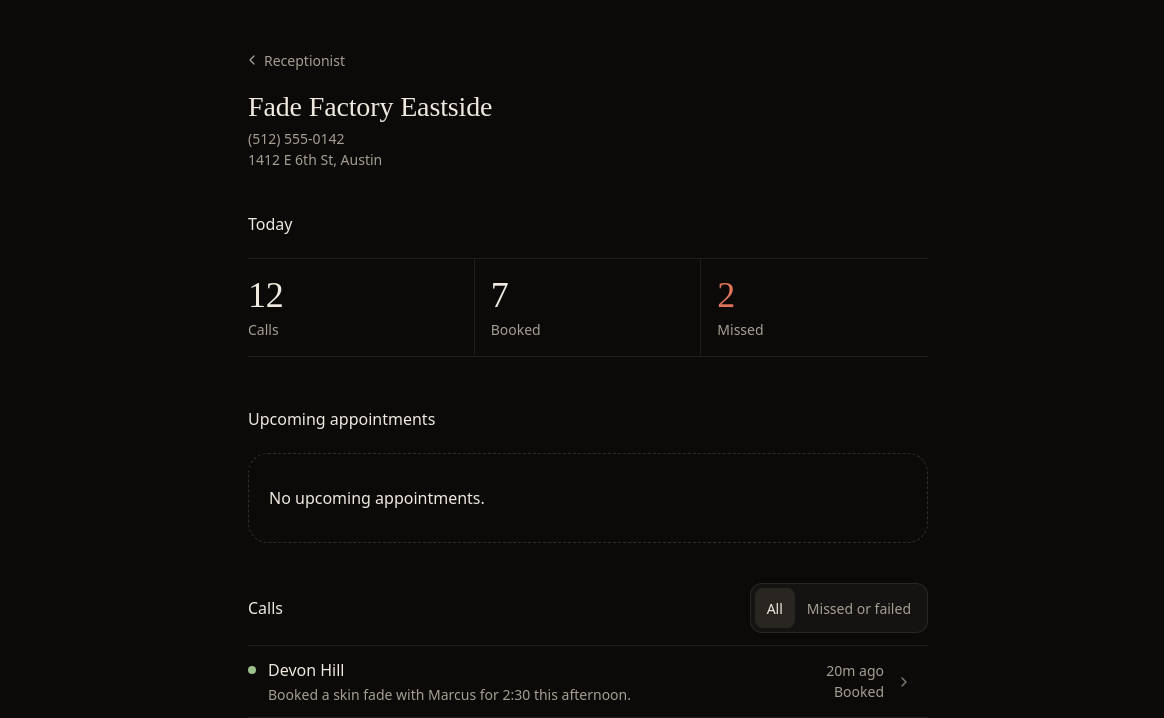
it: Receptionist: one shop › calls › does not add a history entry per filter change: Back still leaves the shop
Click the radio button labelled "Missed or failed" at (859, 608), box [795,588,923,628]
(page scrolled)
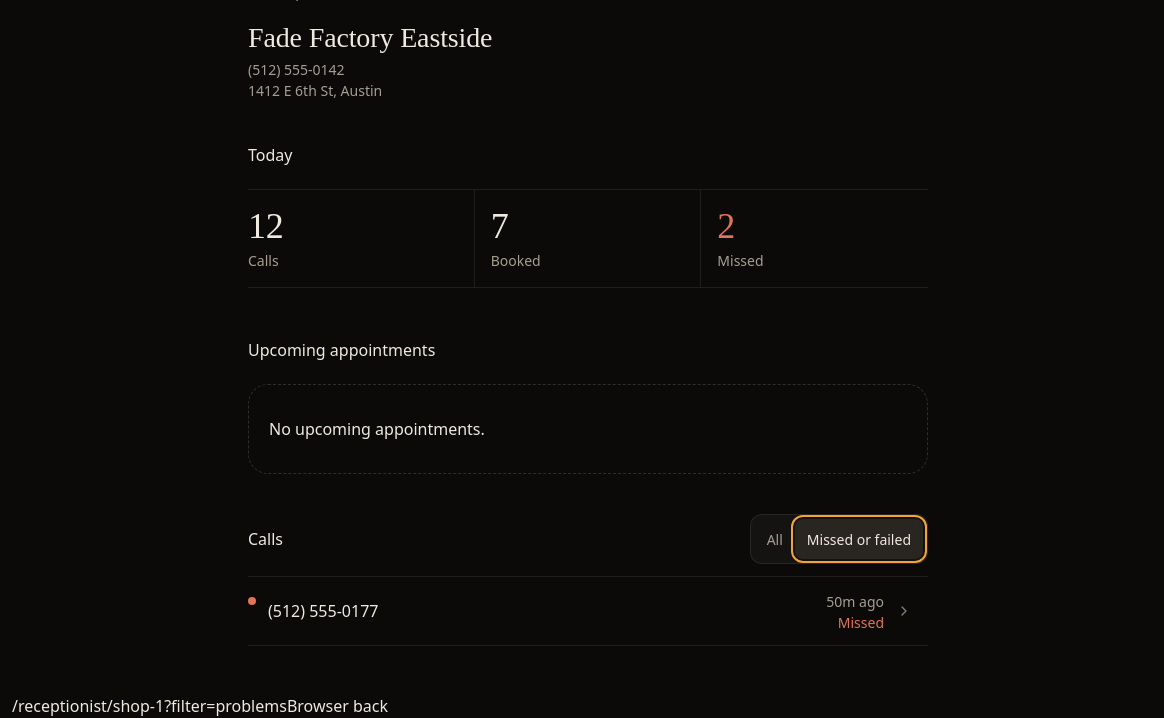
Expected: the text with test id "location" shows "?filter=problems", [12,695,287,717]
Click the button "Browser back" at (337, 706), box [287,694,388,717]
(page scrolled)
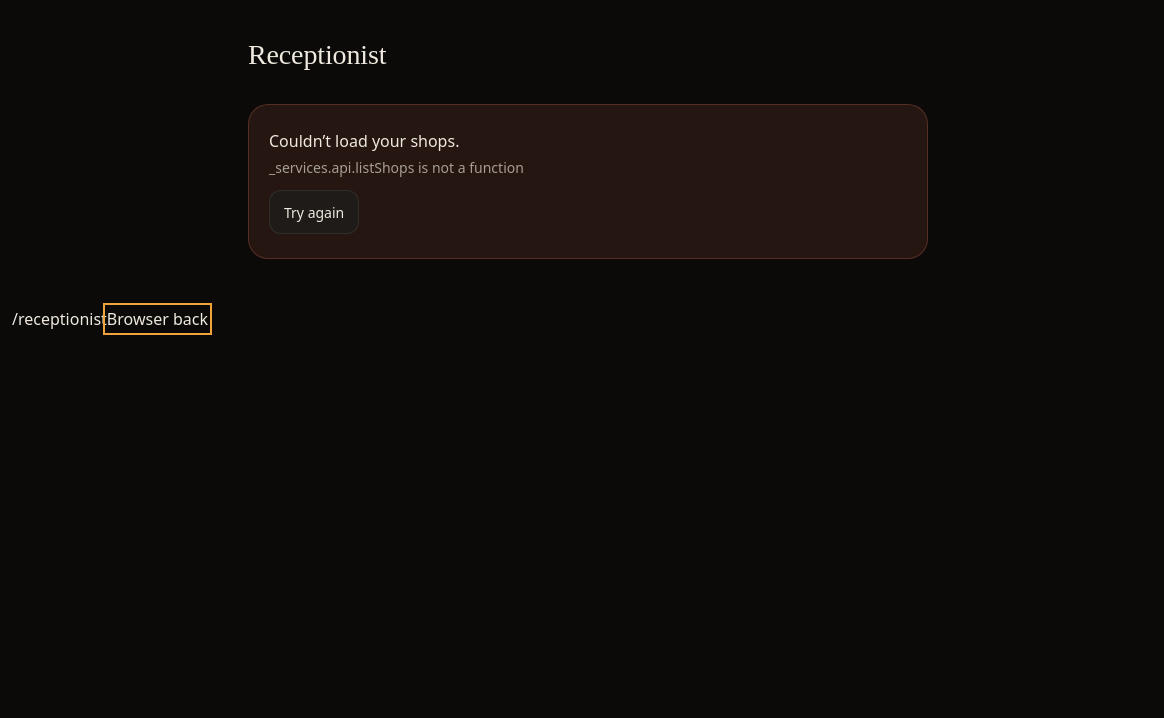
Expected: the text with test id "location" reads "/receptionist", [12,308,107,330]
